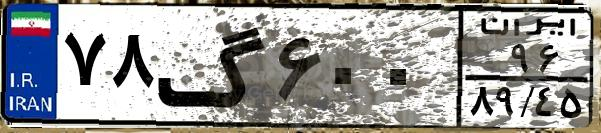0: (385, 28, 445, 110), (330, 28, 385, 110)
4: (535, 70, 560, 125)
5: (560, 70, 590, 125)
6: (270, 28, 330, 110), (537, 27, 568, 80)
7: (57, 26, 110, 100)
8: (110, 28, 156, 98), (470, 70, 495, 125)
9: (508, 27, 537, 80), (495, 70, 520, 125)
گ: (156, 12, 270, 120)
